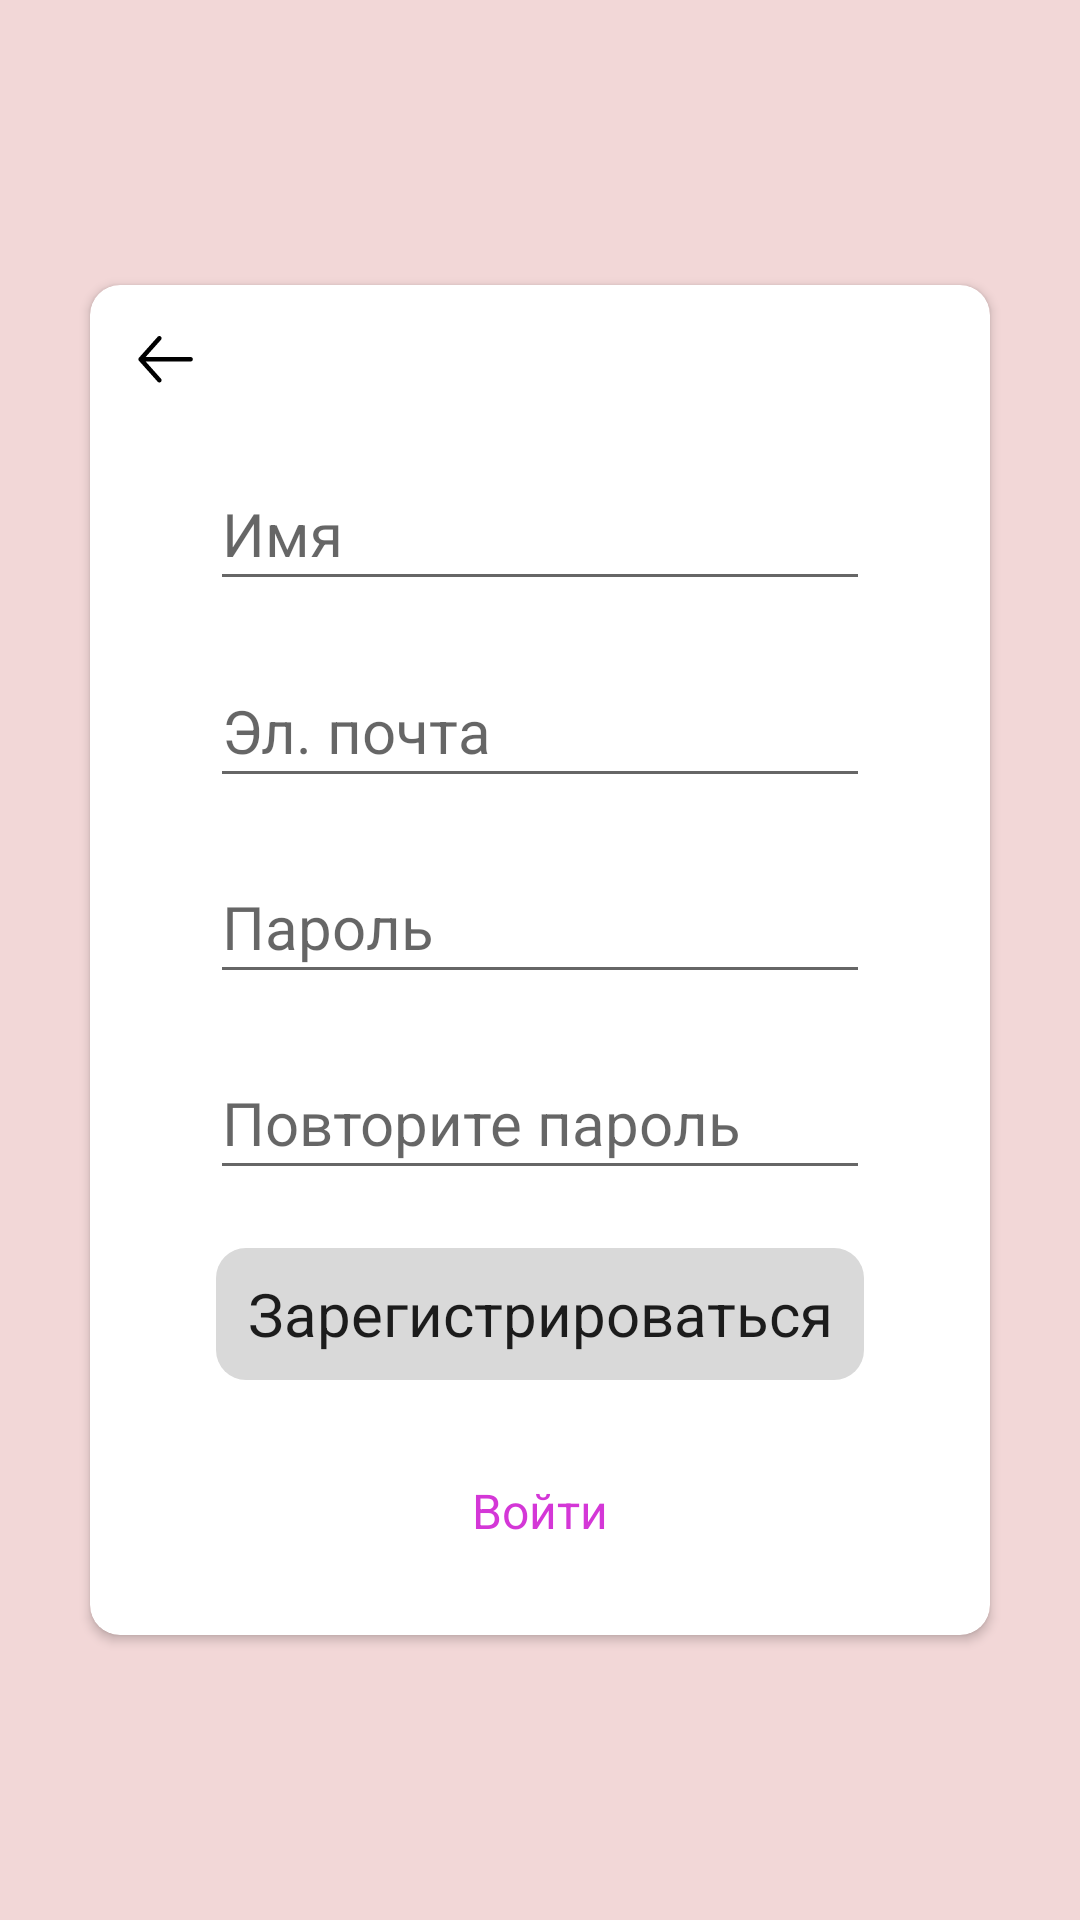

Icons on this 1080×1920 Android screen, each with the point to tap as [x,y]:
back arrow: [165,359]
